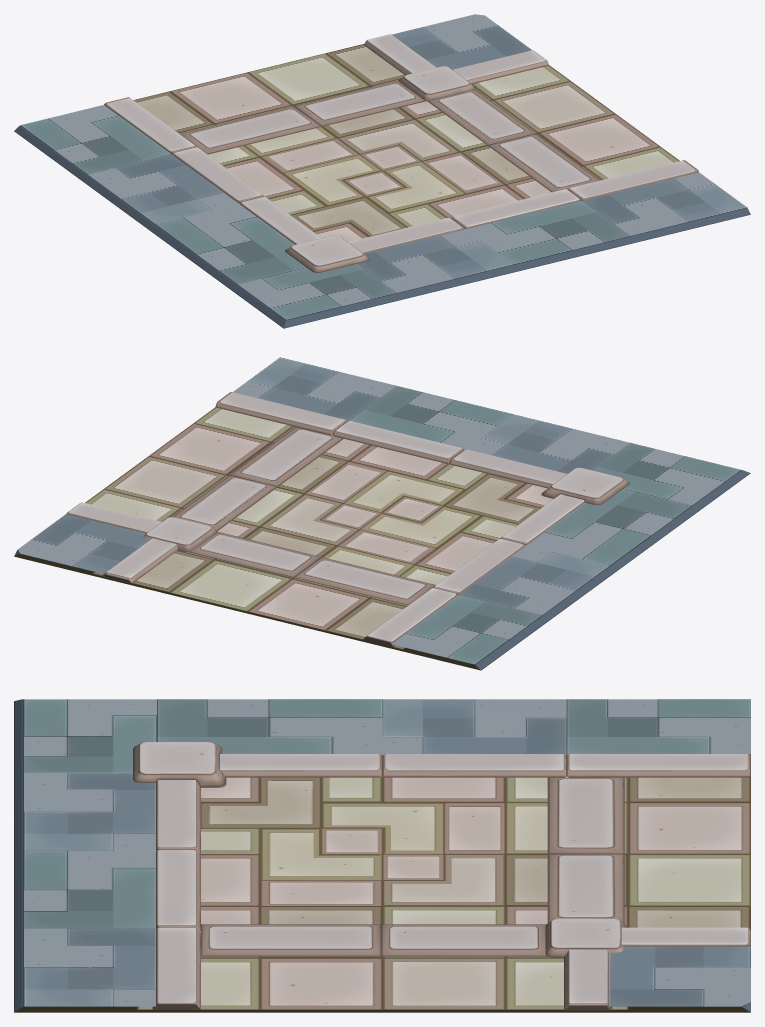
File: road_corner.glb
3 renders of one model, top to bottom at view 1: azimuth 30°, elevation 25°; view 2: azimuth 150°, elevation 25°; view 3: azimuth 270°, elevation 25°, orthographic. The views are drawn at different scales.
Parts seen in each view (by area): view 1: road_03; view 2: road_03; view 3: road_03.
Boxes of the visible parts, x1=… form: road_03: x1=14, y1=14, x2=750, y2=328; road_03: x1=14, y1=357, x2=750, y2=670; road_03: x1=14, y1=699, x2=750, y2=1012.
Size of what is drawn, in the model's own units: 16 by 0.2943 by 16.
Materials: 1 (1 with a texture image).
